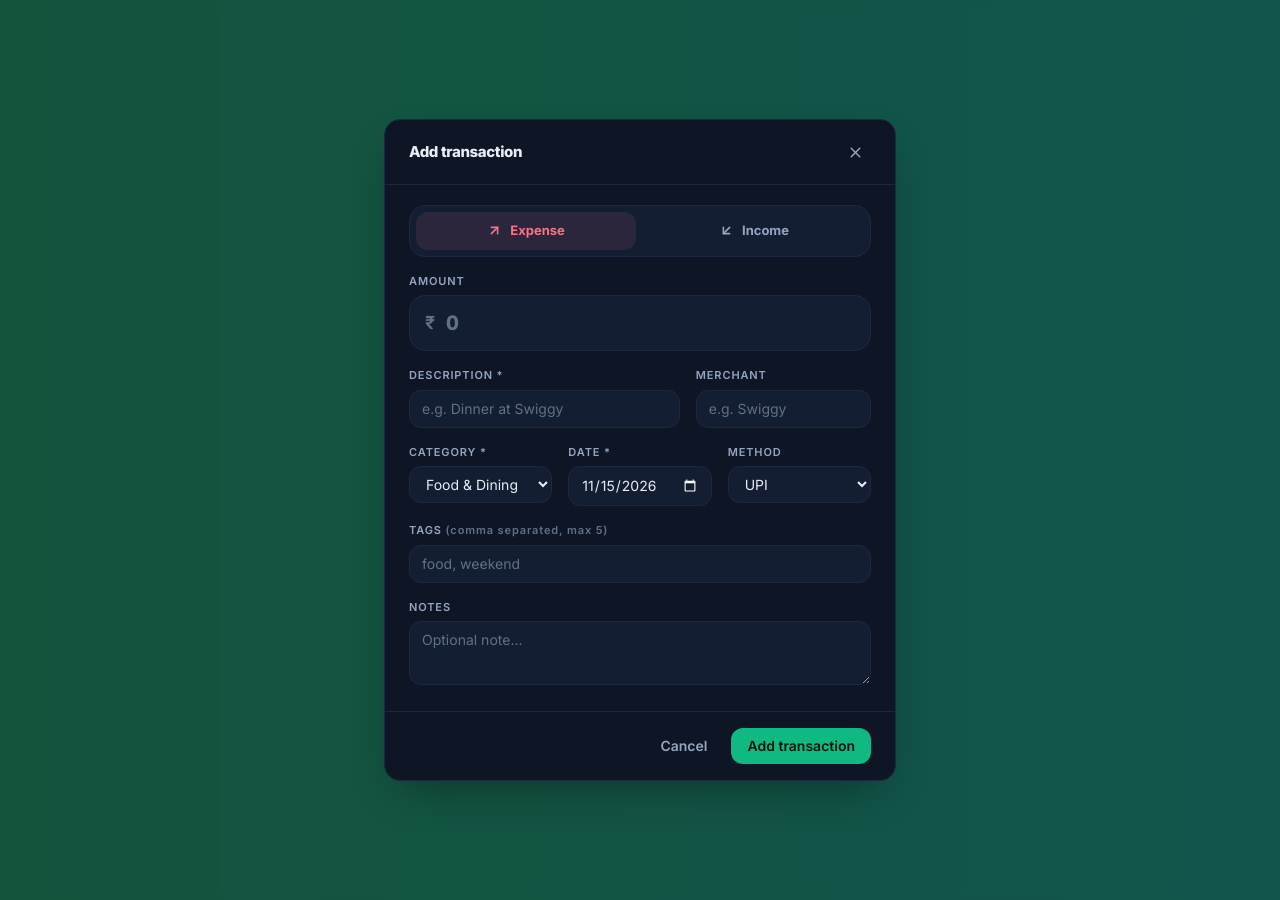
Test: TransactionModal › blocks submit and shows field errors when the form is empty
Click the button "Add transaction": {"x": 801, "y": 746} top-left (732, 728), bottom-right (871, 764)
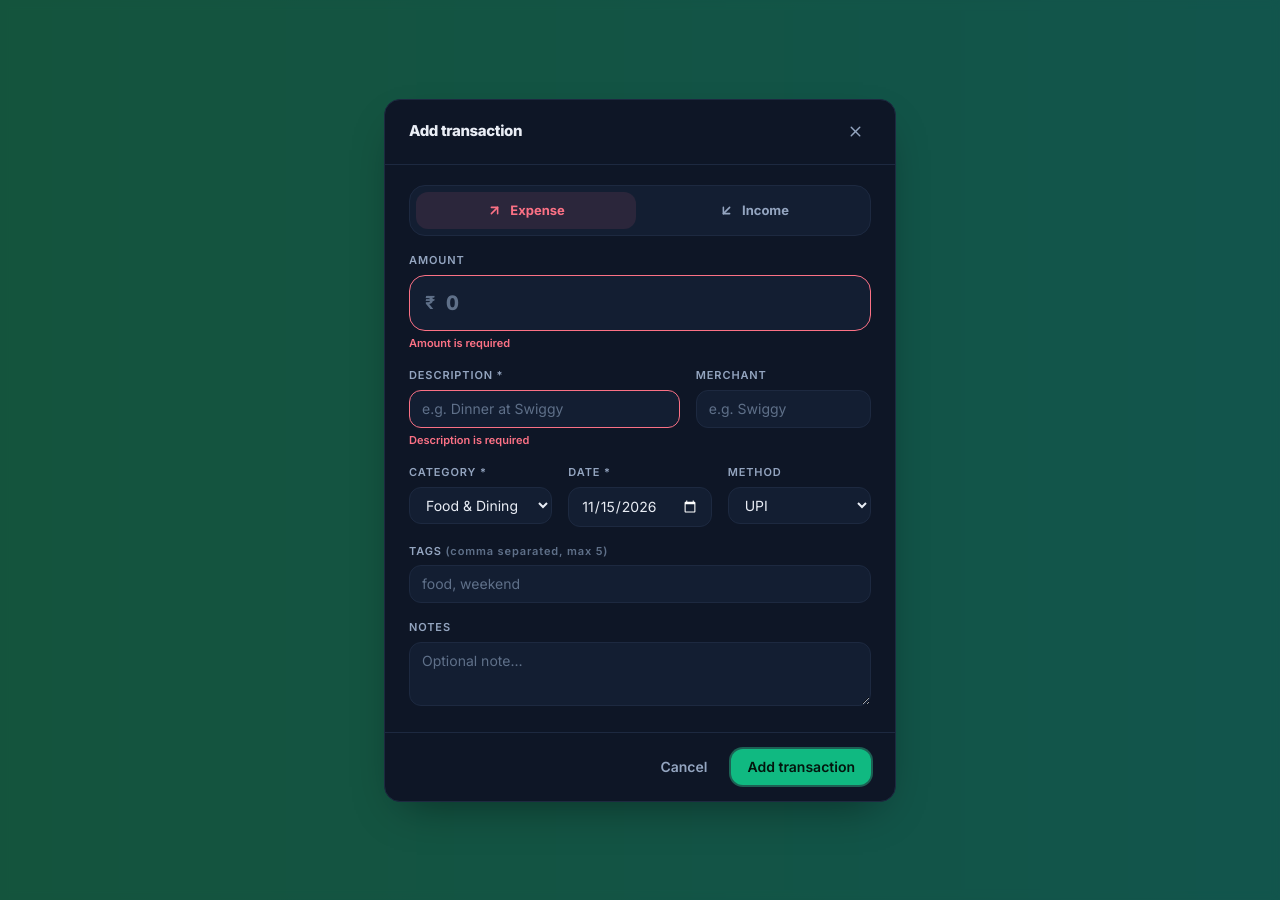
Now the text "Amount is required" is shown, box top-left (409, 336), bottom-right (510, 350)
Now the text "Description is required" is shown, box top-left (409, 432), bottom-right (529, 446)
